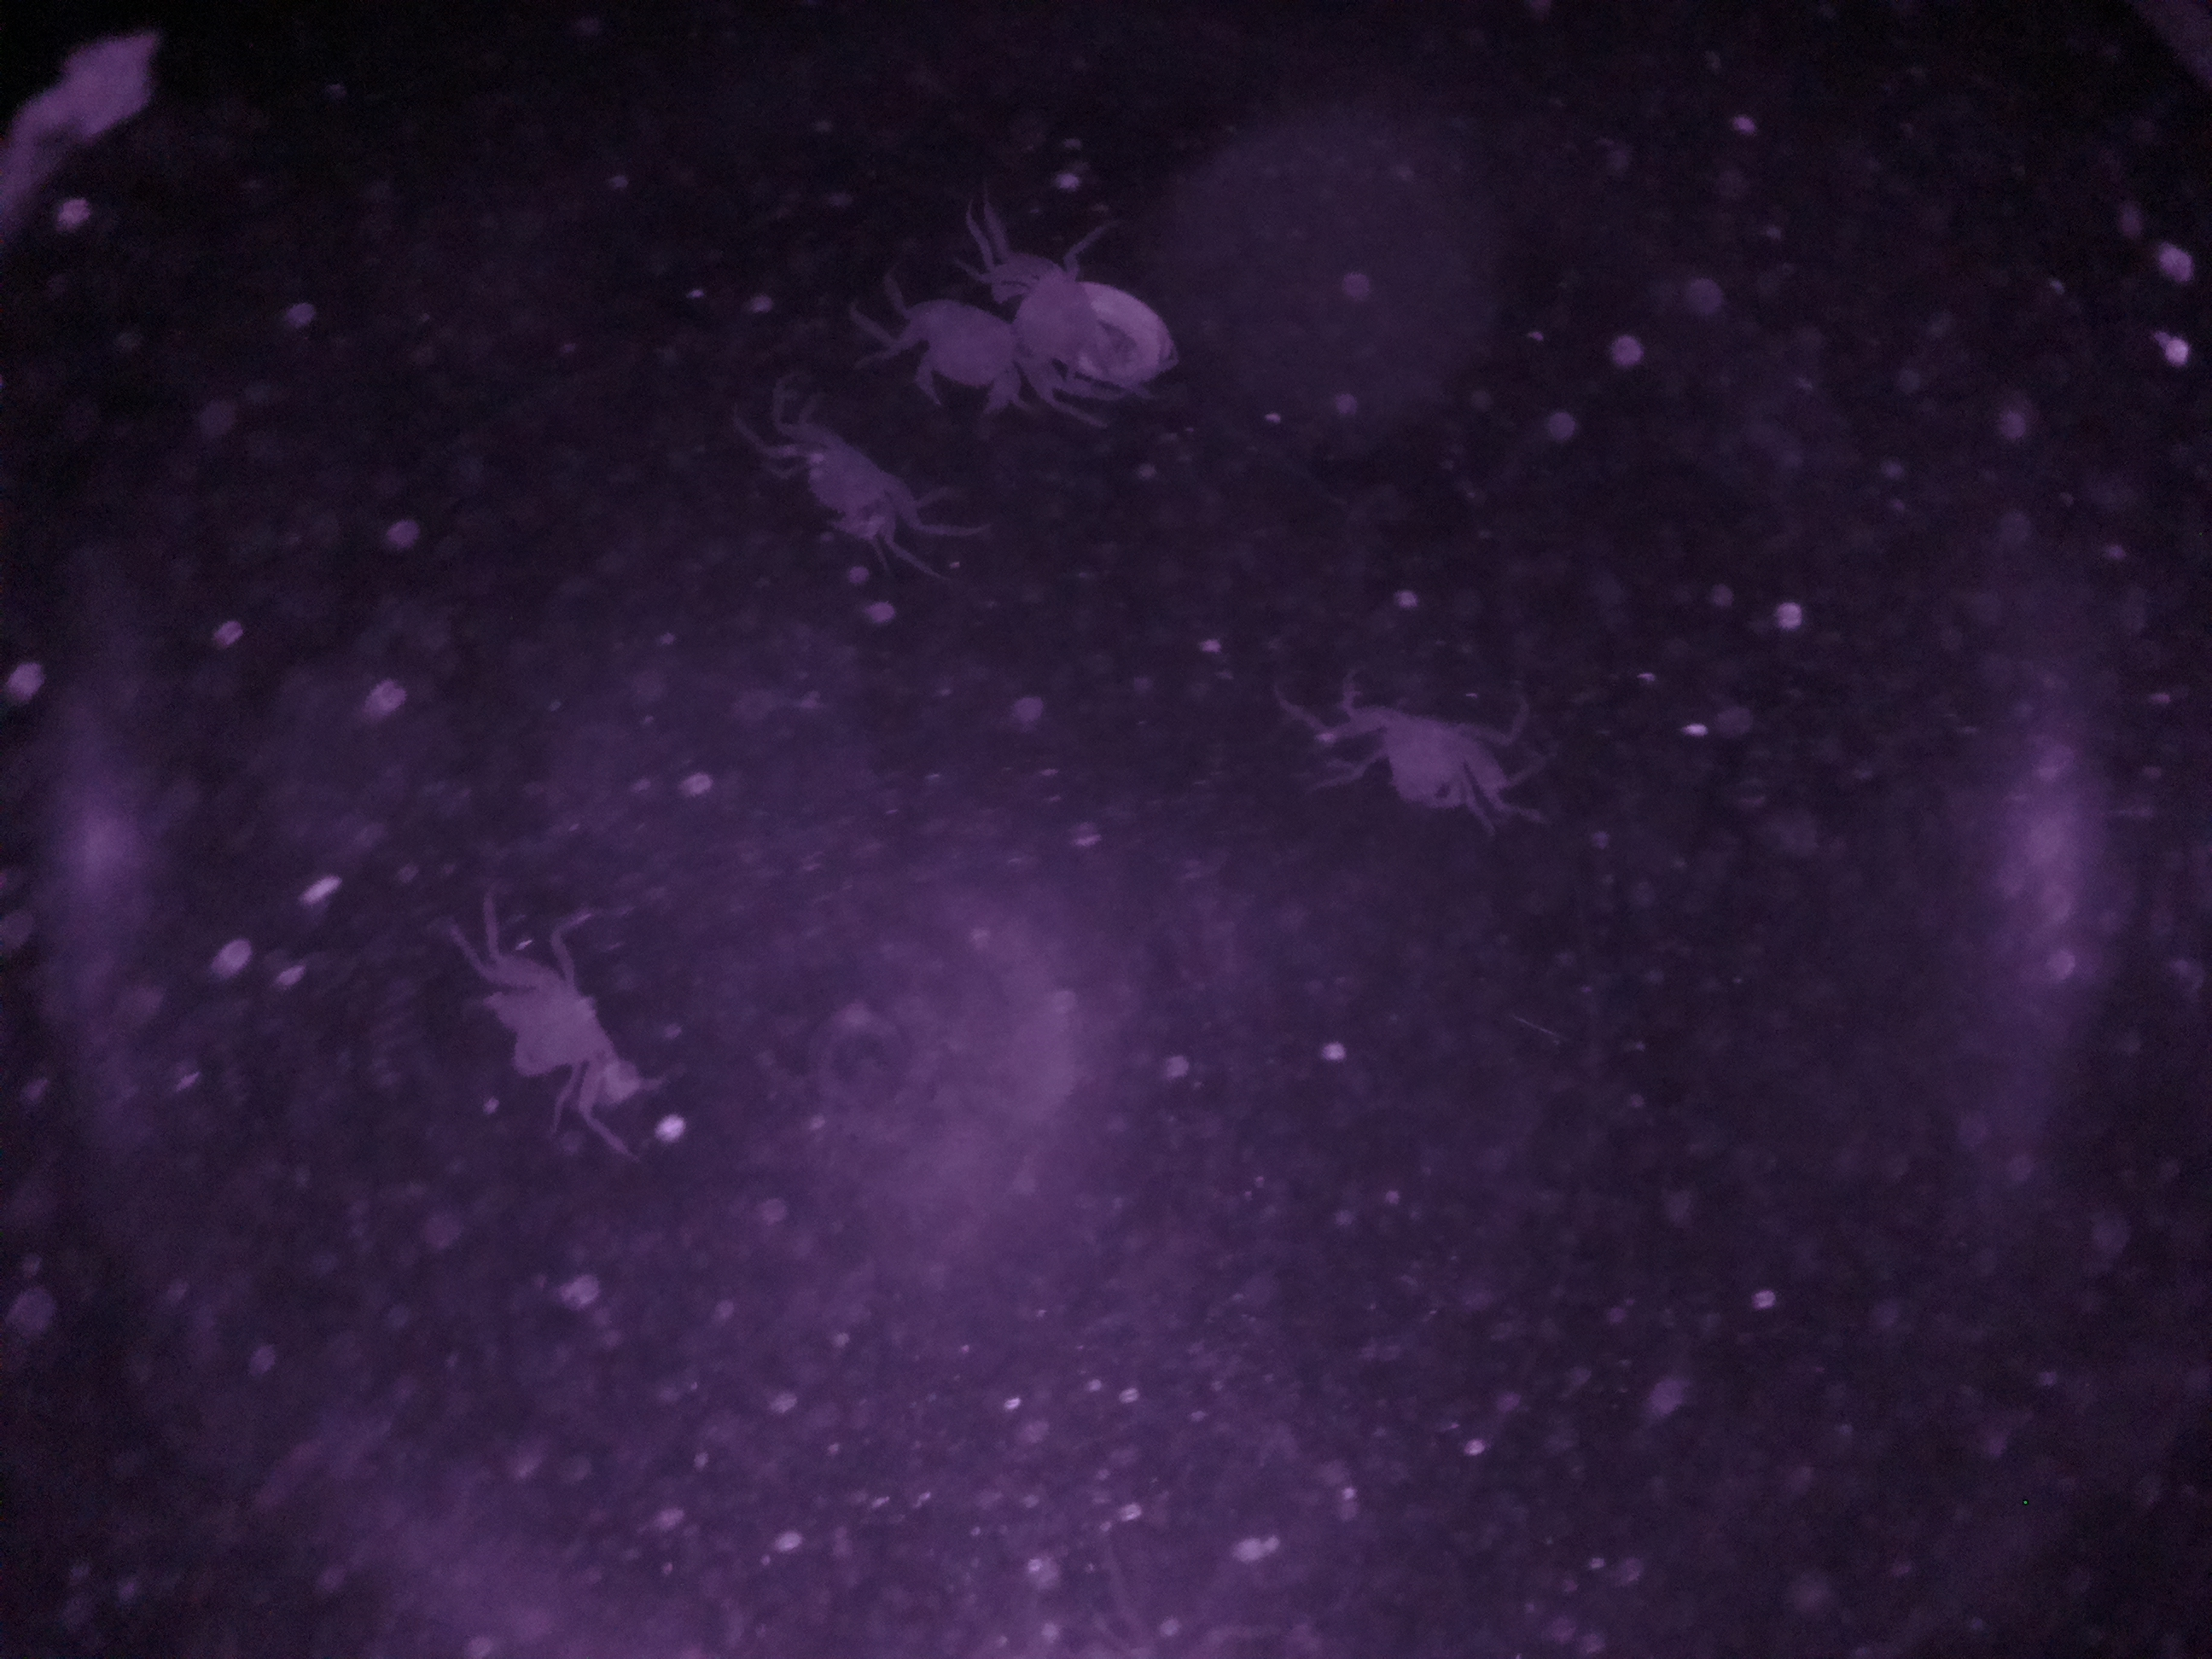Crab: (460, 910, 664, 1140), (752, 401, 988, 580)
